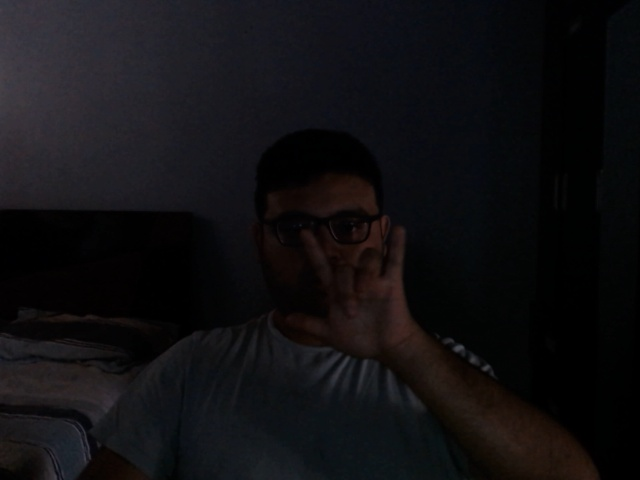I love you: (275, 221, 420, 365)
